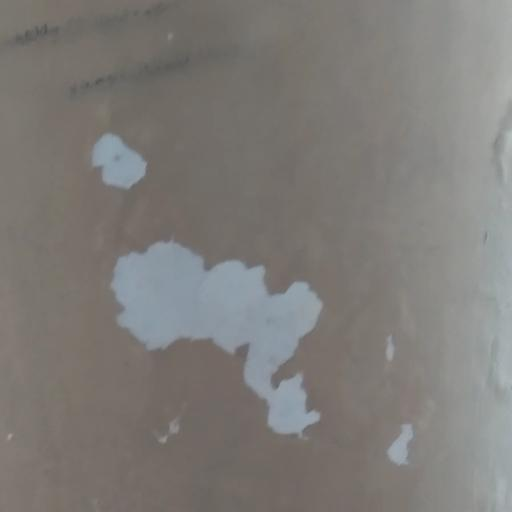peeling: (99, 226, 345, 449), (75, 116, 166, 206), (381, 394, 427, 488), (373, 312, 402, 367)
